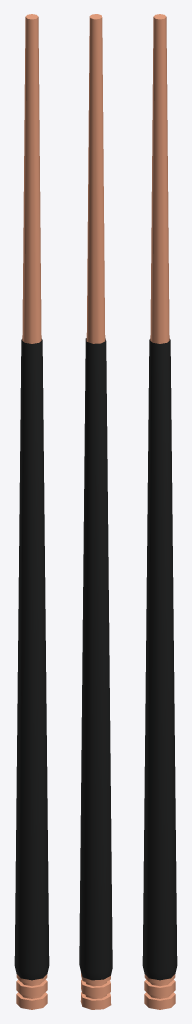
The model's file is chopstick_003.glb.
3 renders of one model, left to right at view 1: azimuth 90°, elevation 25°; view 2: azimuth 210°, elevation 25°; view 3: azimuth 270°, elevation 25°, orthographic.
Parts seen in each view (by area): view 1: chopstick.003; view 2: chopstick.003; view 3: chopstick.003.
Part boxes in pixels (box(x1,y1,x2,y2)): chopstick.003: box(14, 14, 49, 1009); chopstick.003: box(79, 14, 112, 1009); chopstick.003: box(142, 14, 177, 1009).
Bounding box in the file's own units: 0.1749 × 5.51 × 0.1749.
Materials: 1 (1 with a texture image).
